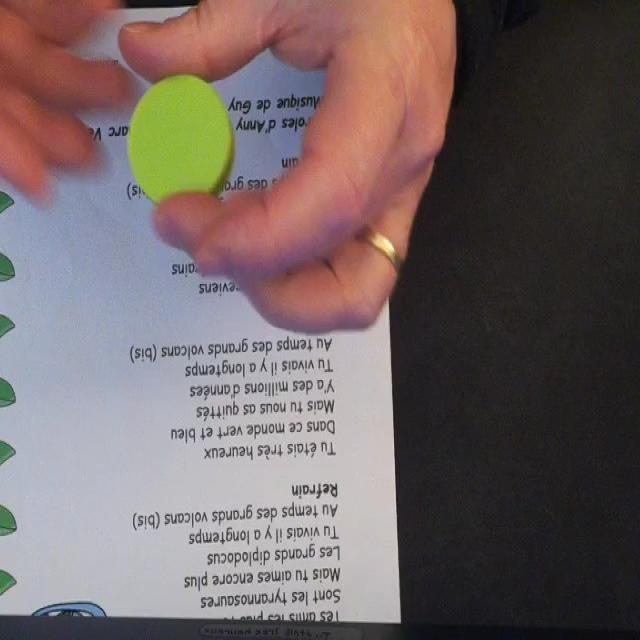round: (128, 74, 234, 210)
